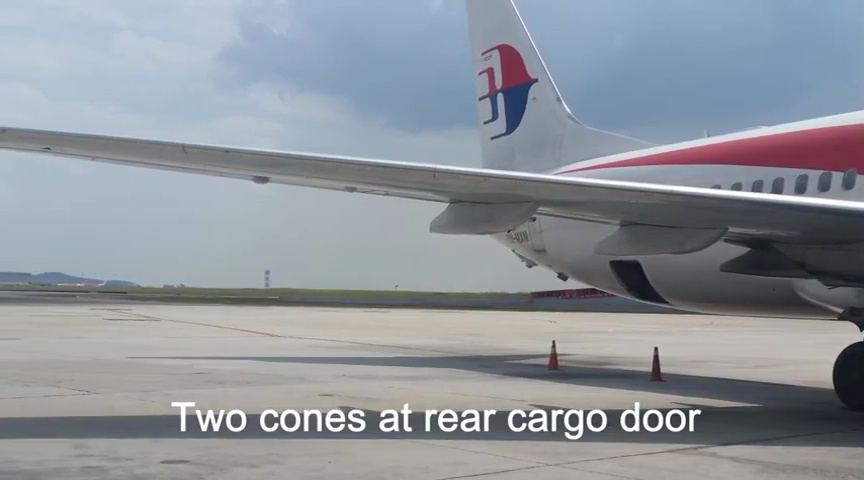safety_cone: (648, 346, 666, 384), (544, 337, 562, 373)
